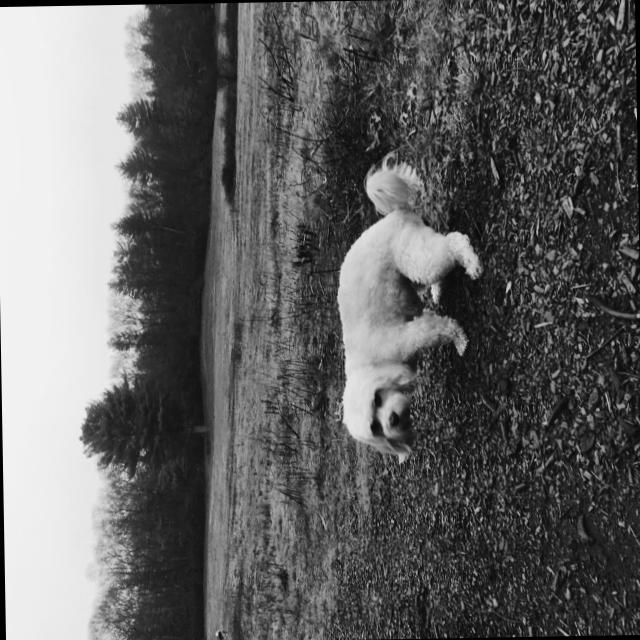squatting: (328, 148, 494, 475)
